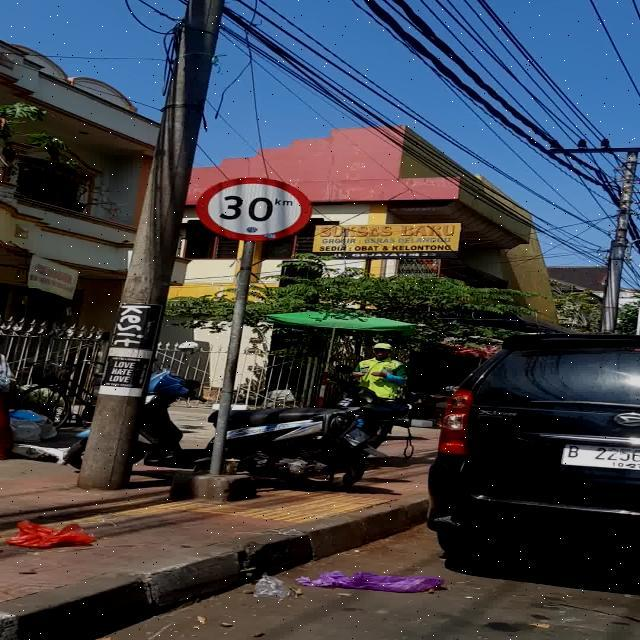Kecepatan Maks. 30 km: (195, 177, 313, 242)
